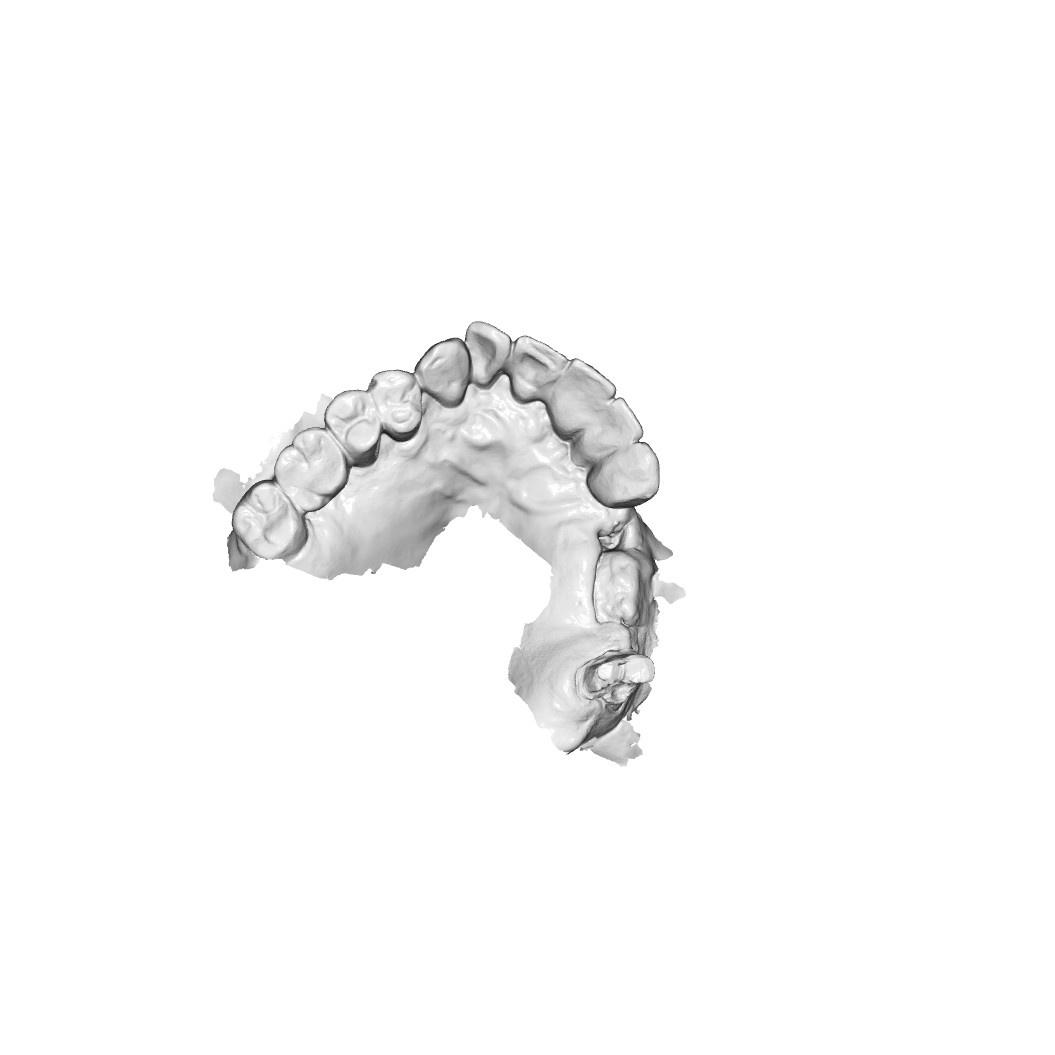canine: (589, 441, 663, 506), (414, 335, 473, 409)
crown: (575, 647, 658, 704)
incisor: (547, 359, 613, 438), (567, 400, 636, 469), (513, 334, 568, 404), (467, 324, 510, 386)
molar: (274, 426, 349, 512), (232, 479, 309, 560)
premolar: (323, 389, 383, 462), (371, 368, 426, 442)
